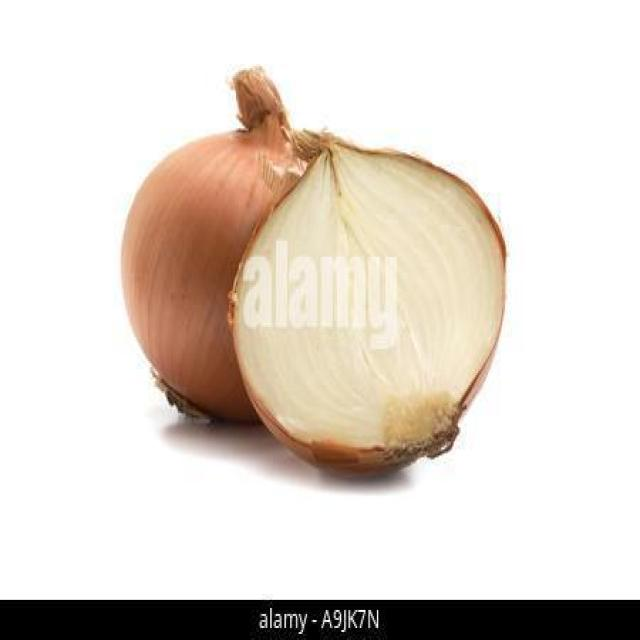Onion: (225, 122, 505, 476), (121, 64, 314, 430)
